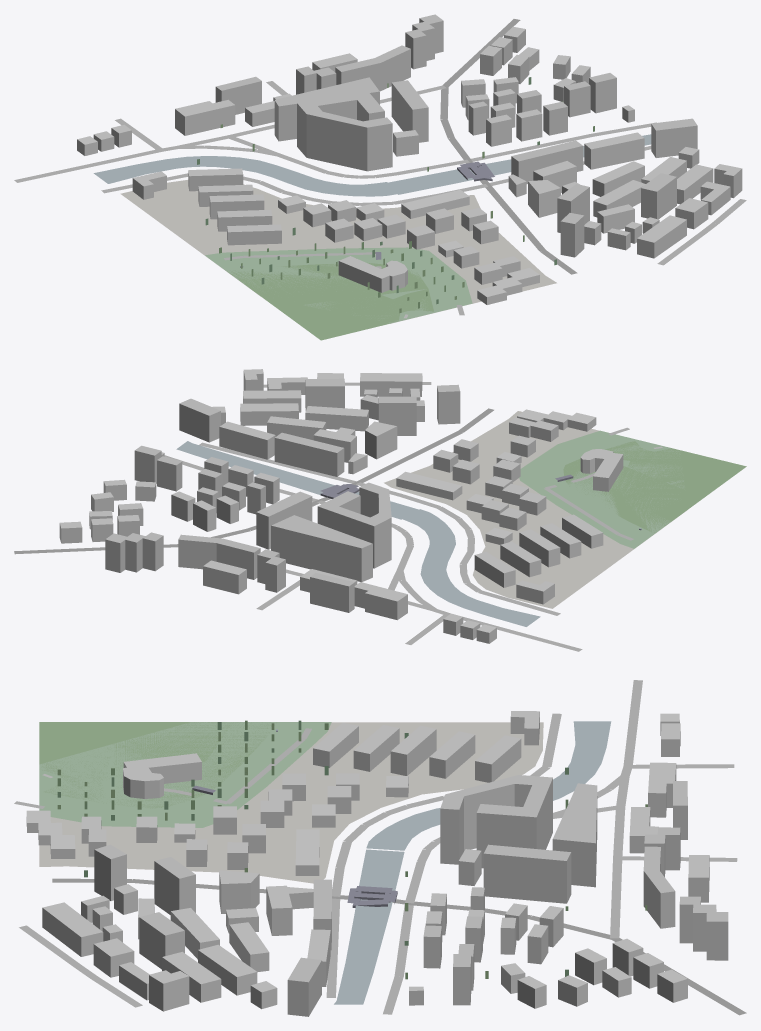
3 views of the same model, one above another, from view 1: azimuth 30°, elevation 25°; view 2: azimuth 150°, elevation 25°; view 3: azimuth 270°, elevation 25° (orthographic). The views are drawn at different scales.
Bounding box in the file's own units: 593 × 47.93 × 549.
